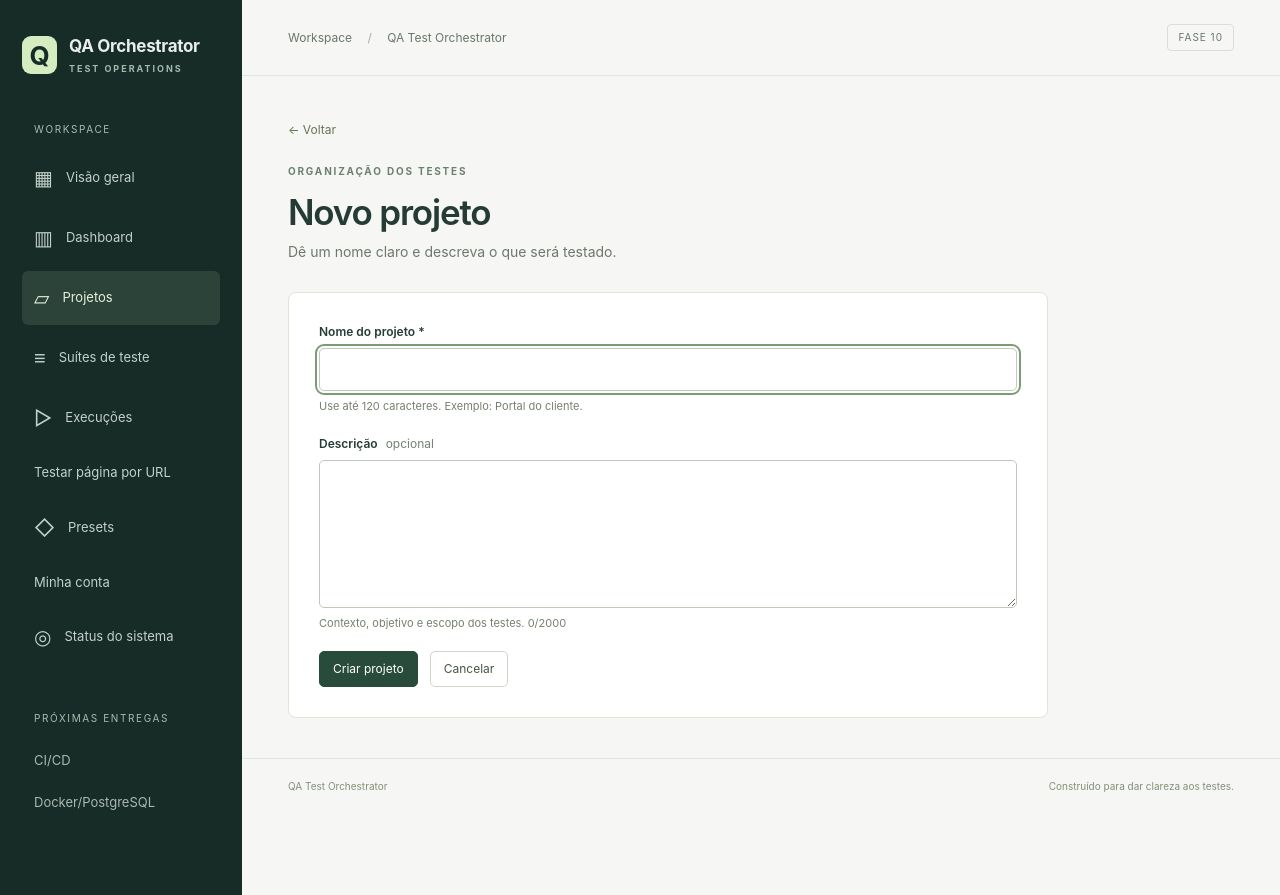
it: Projetos › preserva preenchimento após erro do banco
The width and height of the screenshot is (1280, 895).
Type "Portal" into the field labelled "Nome do projeto *" at (668, 370), box [319,348,1017,391]
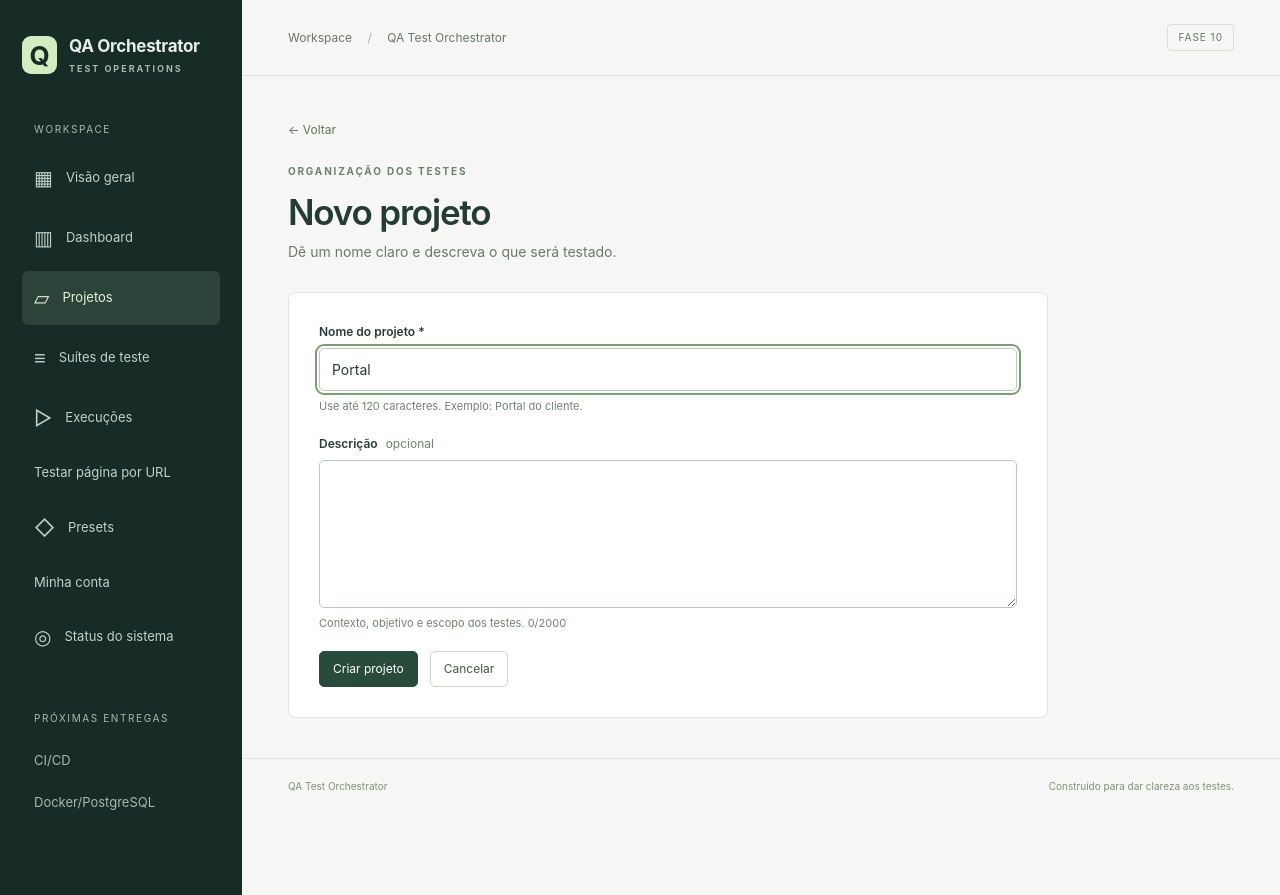
Click the button "Criar projeto" at (368, 669), box [319,651,418,687]
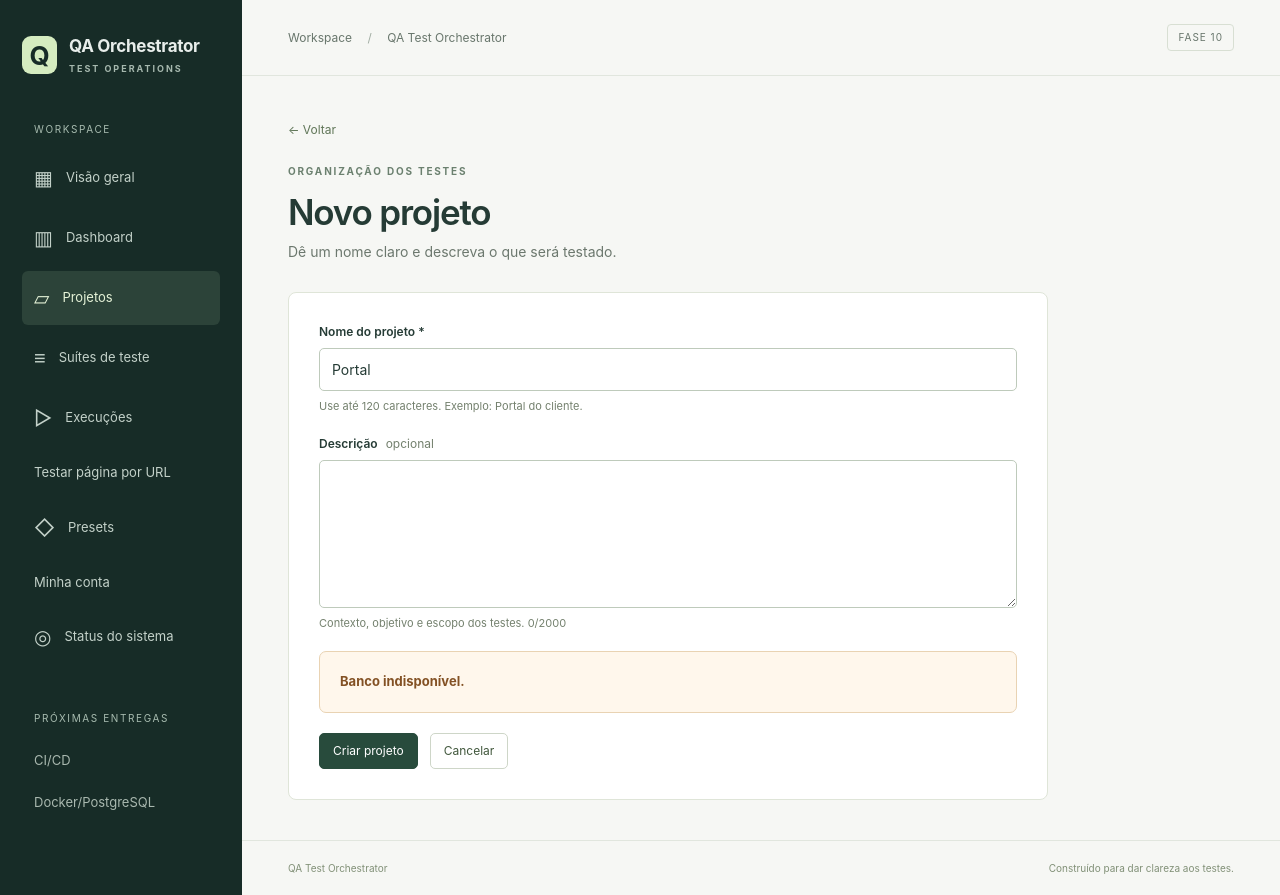
Expected: the message reads "Banco indisponível.", [340,673,464,689]
